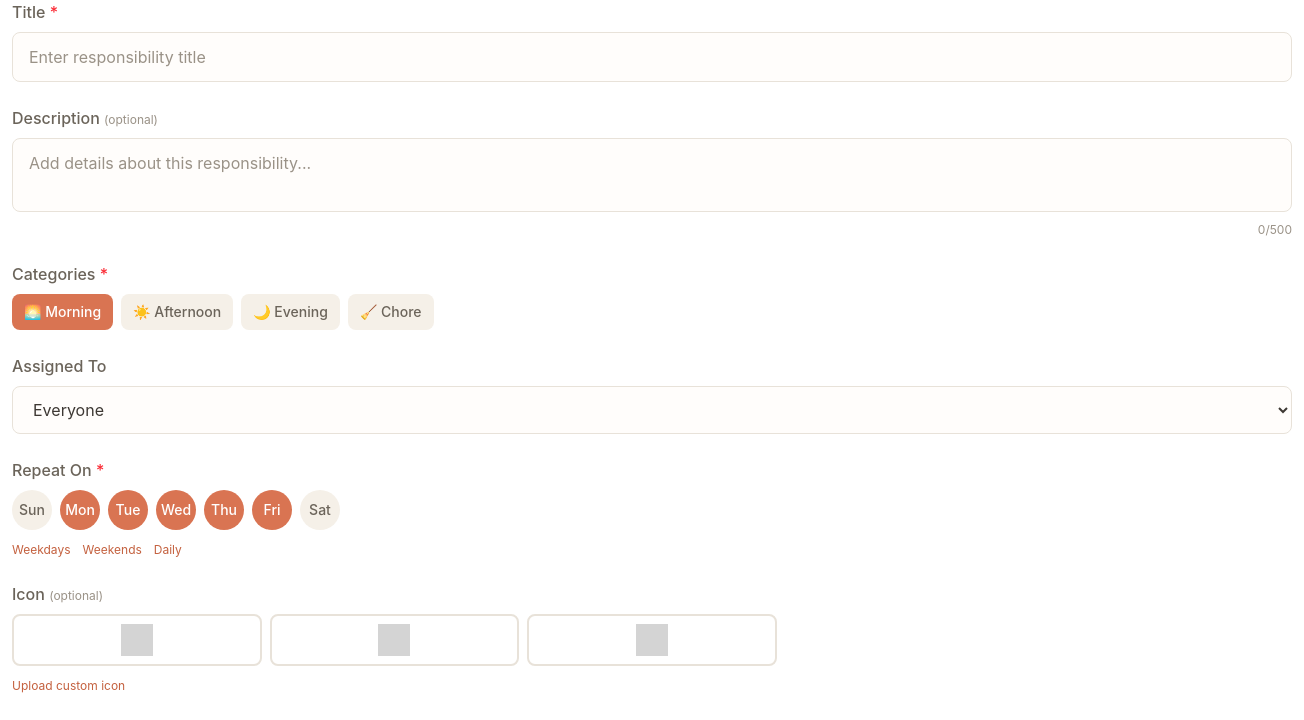
Scenario: ResponsibilityForm › validation › disables submit button when no days selected
The width and height of the screenshot is (1304, 720).
Click the button "Mon".
click(80, 510)  # box [60,490,100,530]
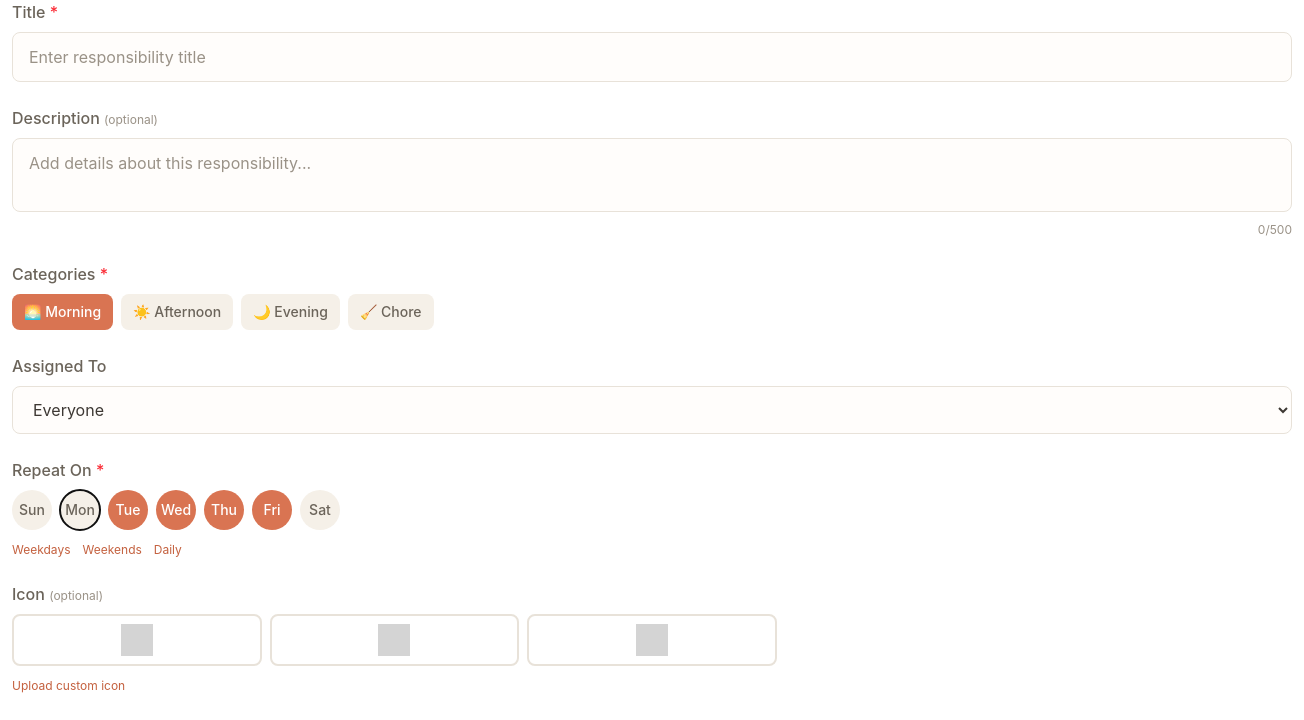
Click the button "Tue".
click(128, 510)  # box [108,490,148,530]
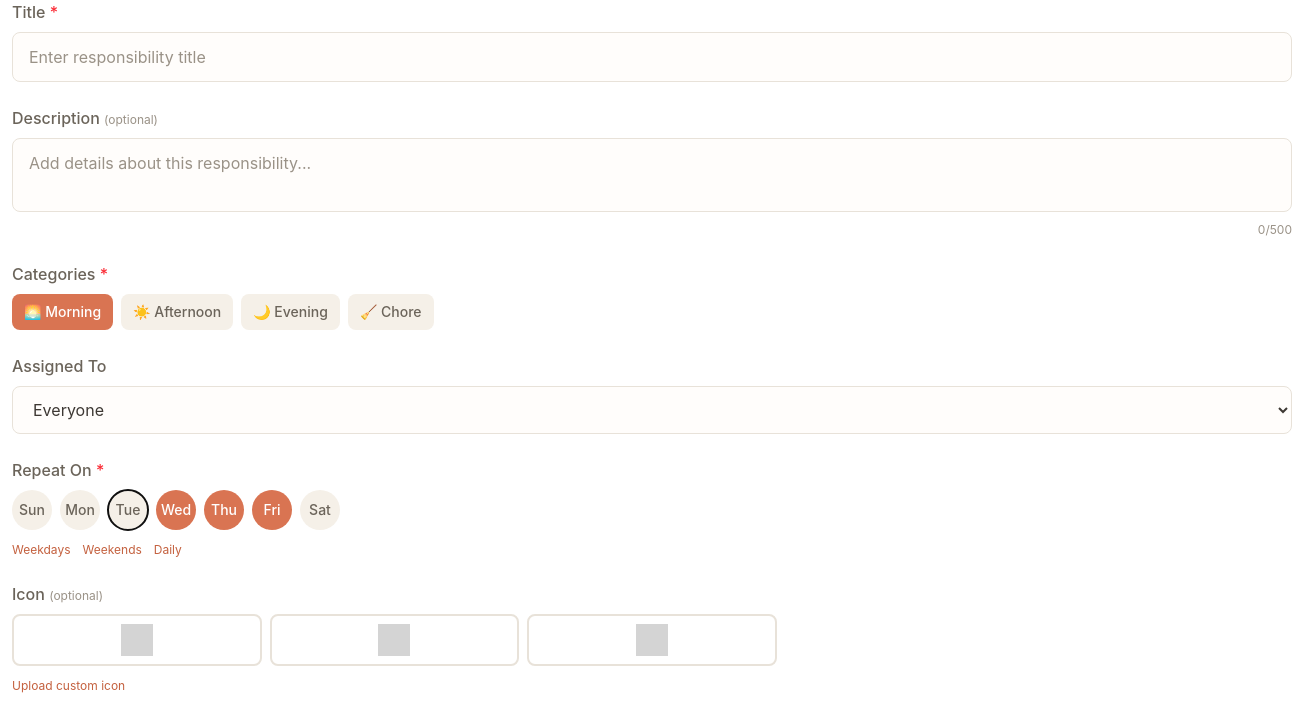
Click the button "Wed".
click(176, 510)  # box [156,490,196,530]
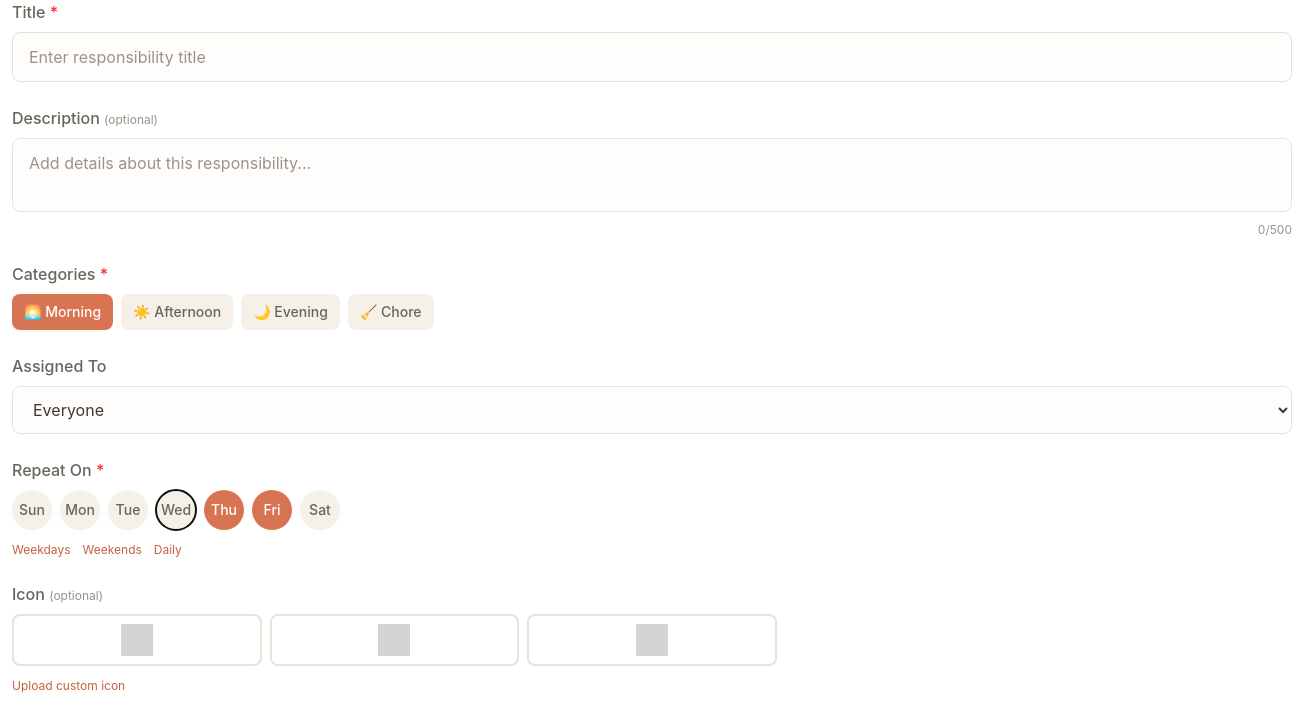
Click the button "Thu".
click(224, 510)  # box [204,490,244,530]
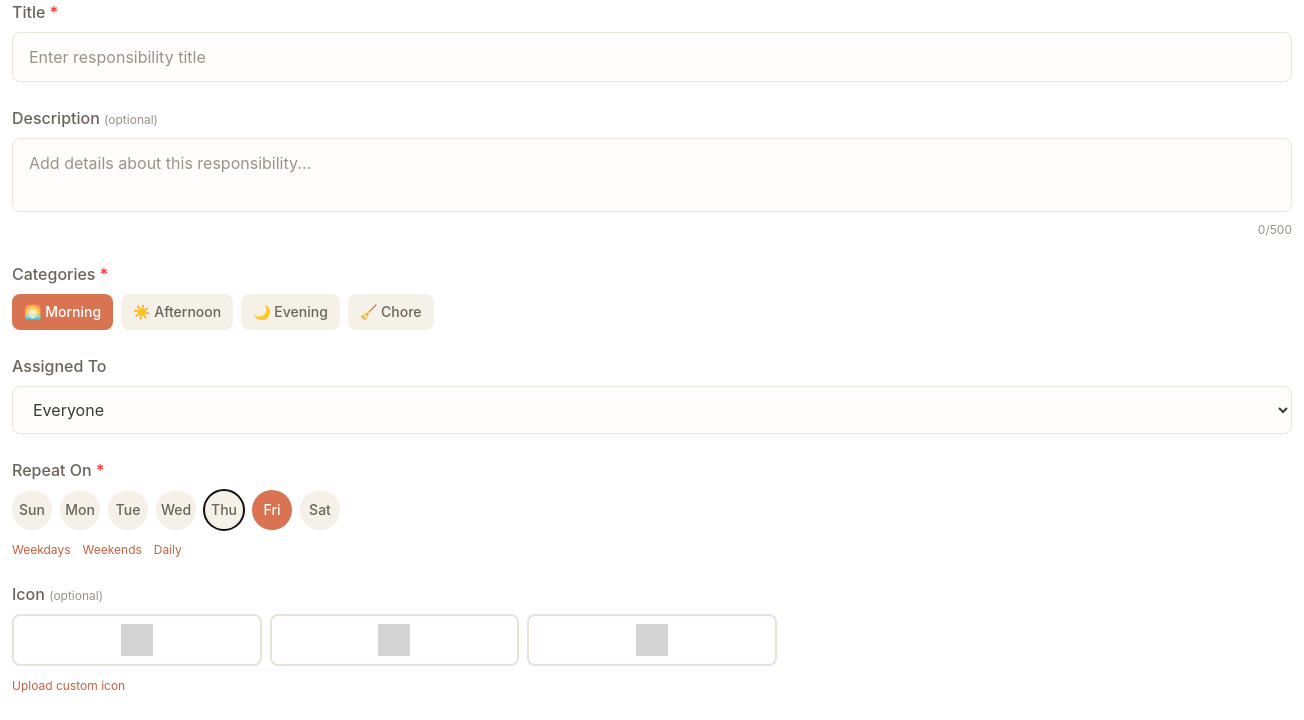
Click the button "Fri".
click(272, 510)  # box [252,490,292,530]
(page scrolled)
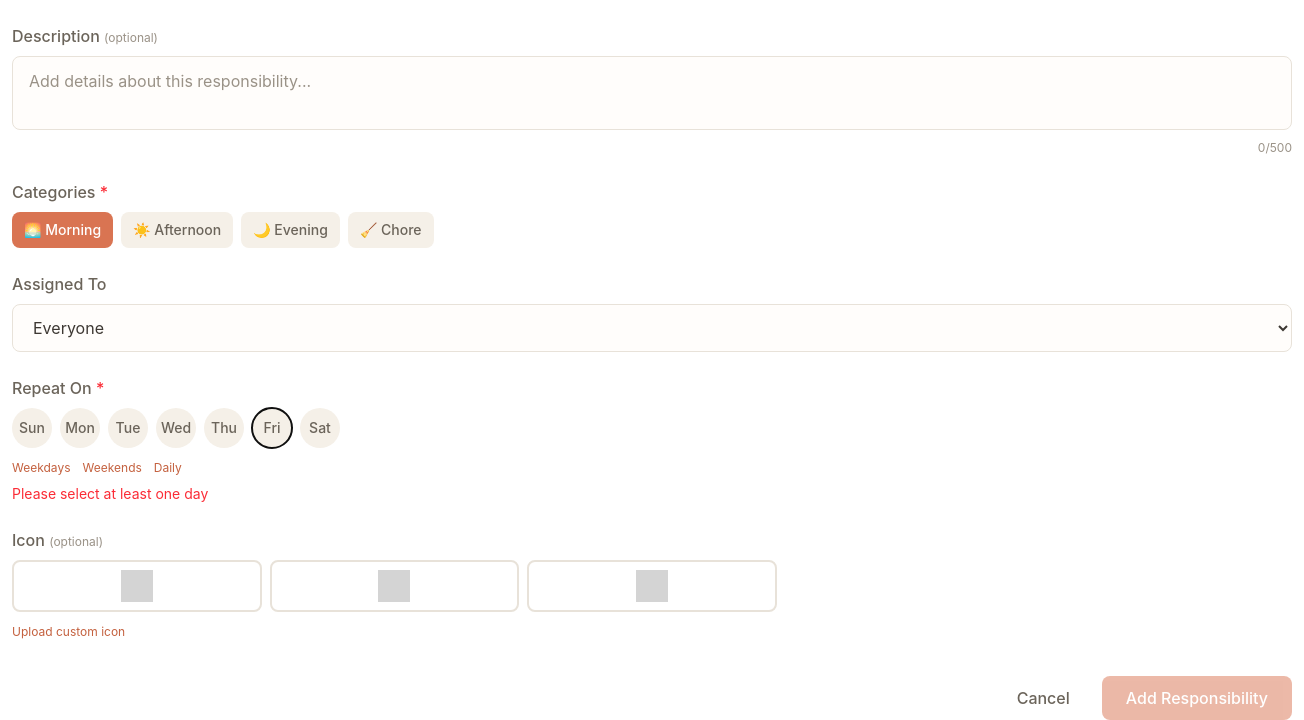
Expected: the button "Add Responsibility" is disabled, [1102,676,1292,719]
